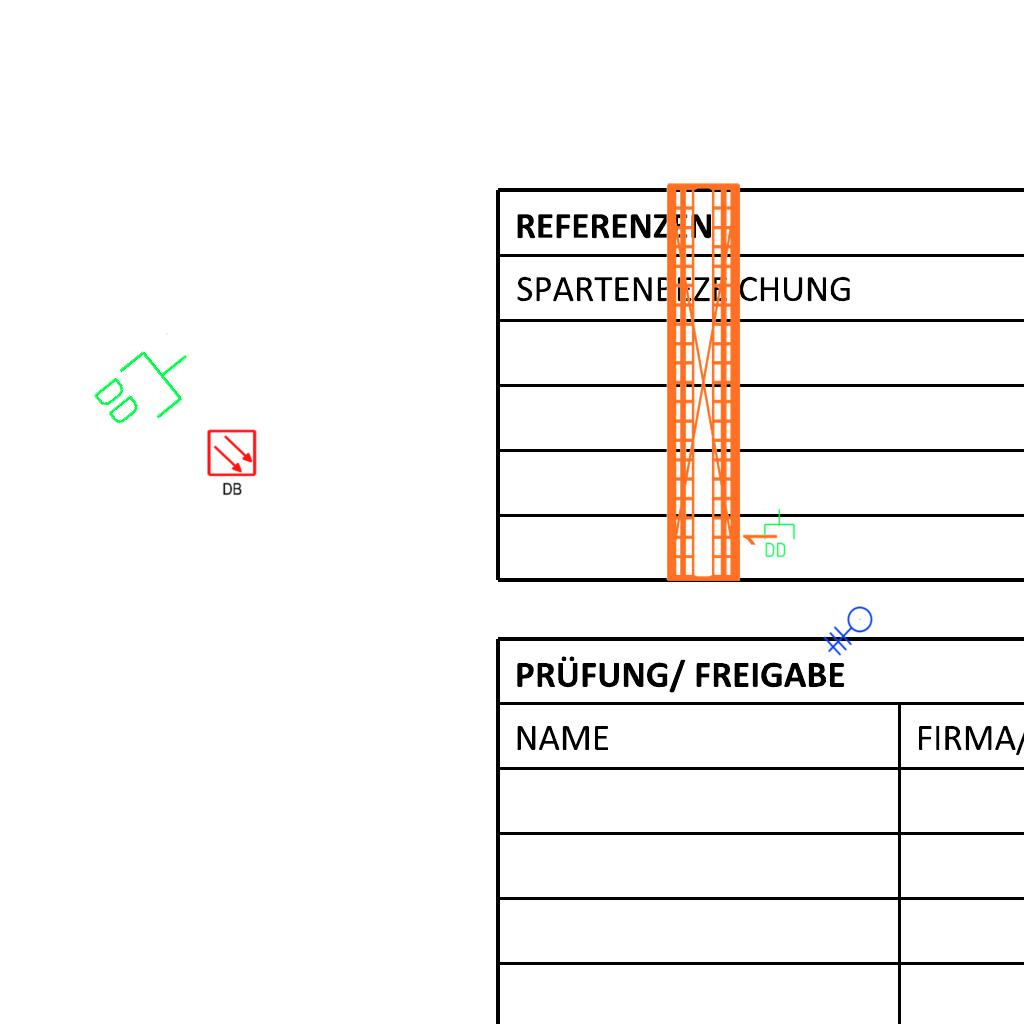Buero_Pendelleuchten_LED: (657, 175, 787, 588)
DB_Melder_in_Doppelboden_mit_Revisionsoeffnung_mind_40_x_40_cm: (204, 426, 261, 500)
Datenanschluss_zweifach: (85, 327, 210, 446), (762, 508, 796, 559)
Elektroanschluss_allgemein_400V_Geraeteanschlussdose_400V: (823, 606, 881, 662)
